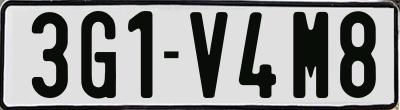1: (127, 11, 157, 99)
3: (31, 11, 69, 97)
4: (239, 12, 280, 104)
8: (340, 8, 378, 101)
G: (78, 8, 114, 101)
M: (291, 9, 332, 101)
V: (189, 10, 228, 100)
